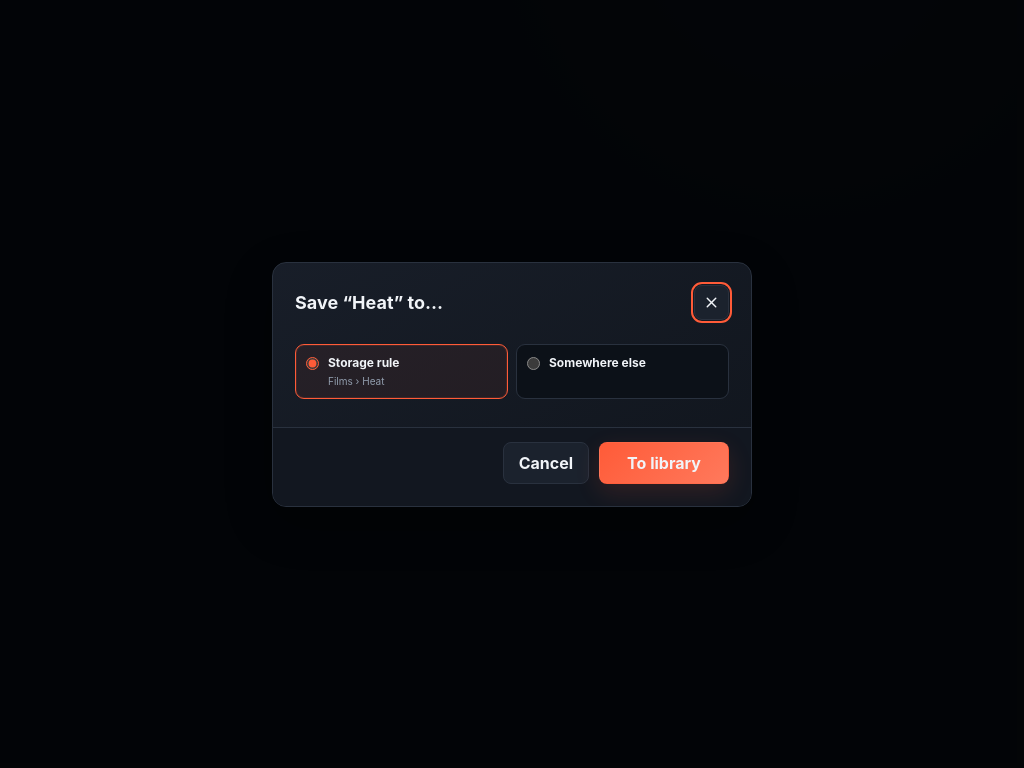
Scenario: SaveTargetDialog shell › keeps the dialog and its error when the submit fails
Click the button "To library". click: (664, 462)
box: [599,442,729,484]
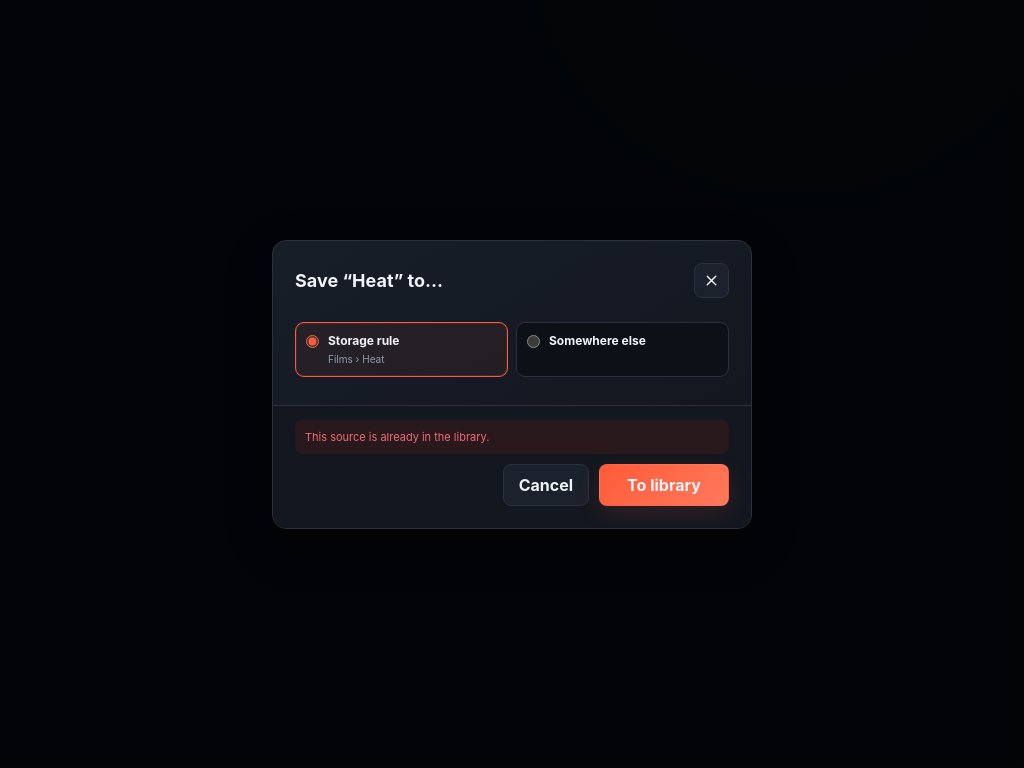
Expected: the button "To library" is enabled, [599,464,729,506]
Now the element with class "save-target-card" shows "This source is already in the library.", box [305,430,489,444]
